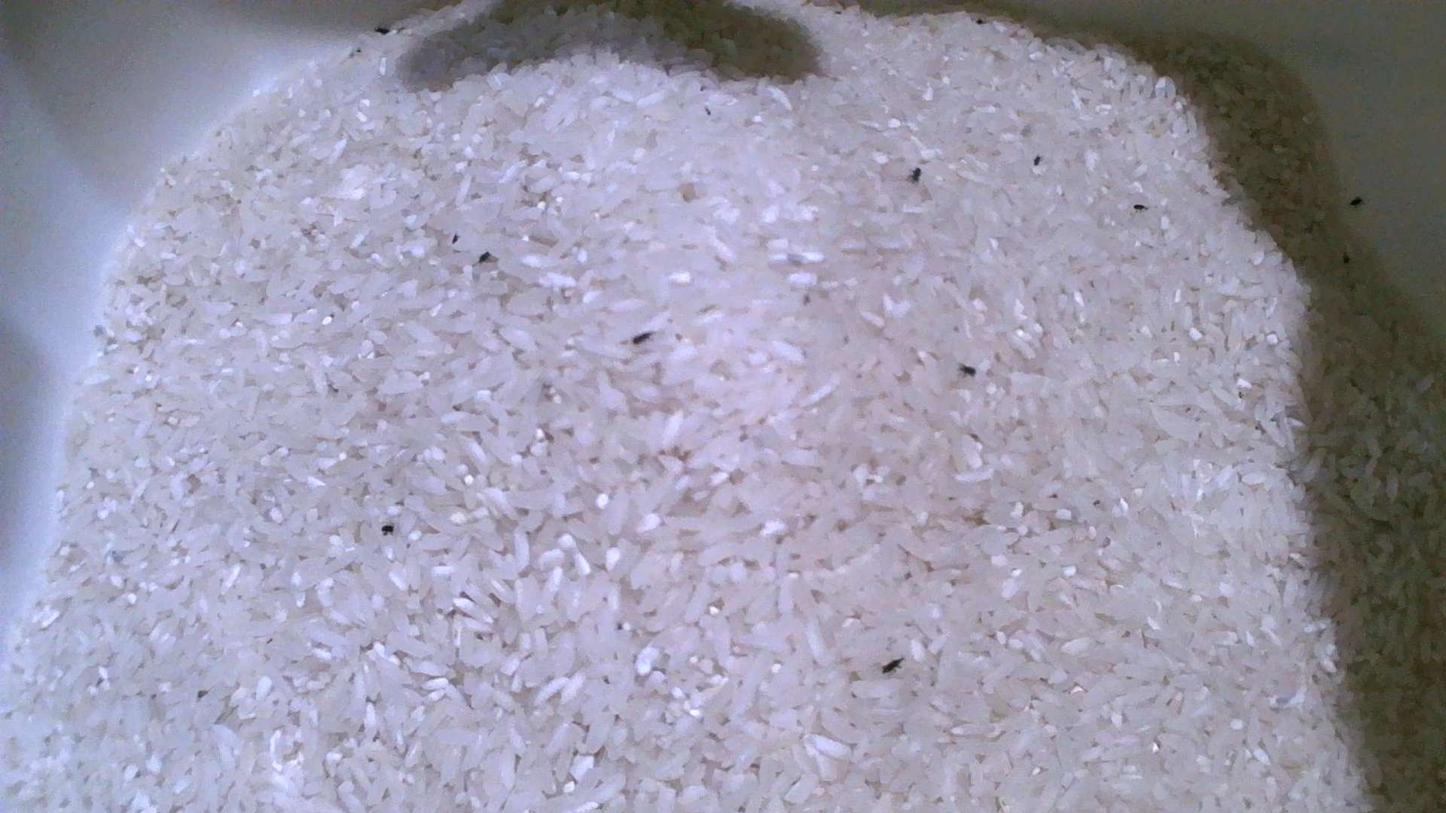Sitophilus-Oryzae: (881, 658, 904, 674), (631, 331, 655, 345), (959, 364, 976, 376), (374, 26, 395, 35), (477, 251, 492, 263), (910, 167, 921, 183), (1349, 196, 1363, 206)
